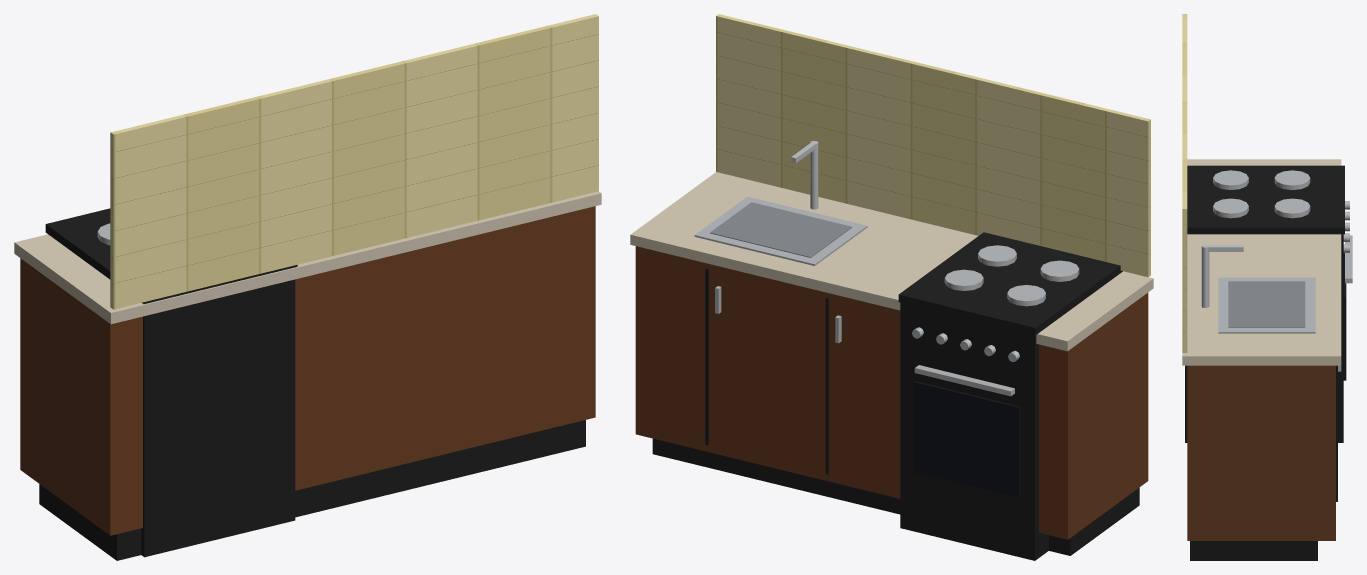
The model's file is counter.glb.
The picture shows the model from 3 angles, left to right: view 1: azimuth 30°, elevation 25°; view 2: azimuth 150°, elevation 25°; view 3: azimuth 270°, elevation 25°; orthographic projection. The views are drawn at different scales.
Visible parts, largest first — view 1: counter; view 2: counter; view 3: counter.
Part boxes in pixels (box(x1,y1,x2,y2)): counter: box(14, 14, 601, 560); counter: box(630, 14, 1153, 560); counter: box(1182, 14, 1352, 560).
Size of the model in its own units: 1.82 by 1.53 by 0.665.
Materials: 8 (1 with a texture image).
